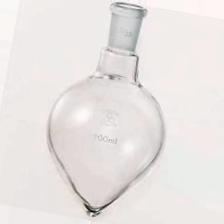Pear shaped flask: (44, 2, 177, 208)
